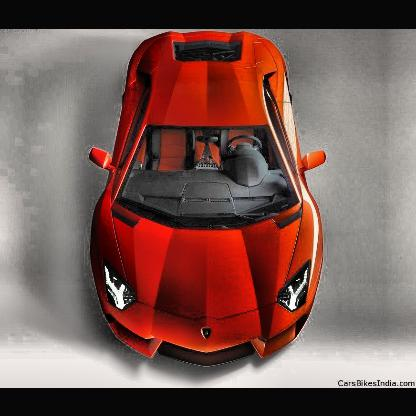Lamborghini Aventador Coupe 2012: (90, 34, 329, 369)
